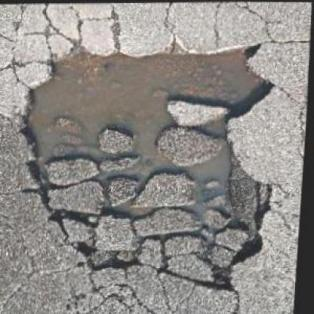Hueco: (7, 37, 288, 300)
